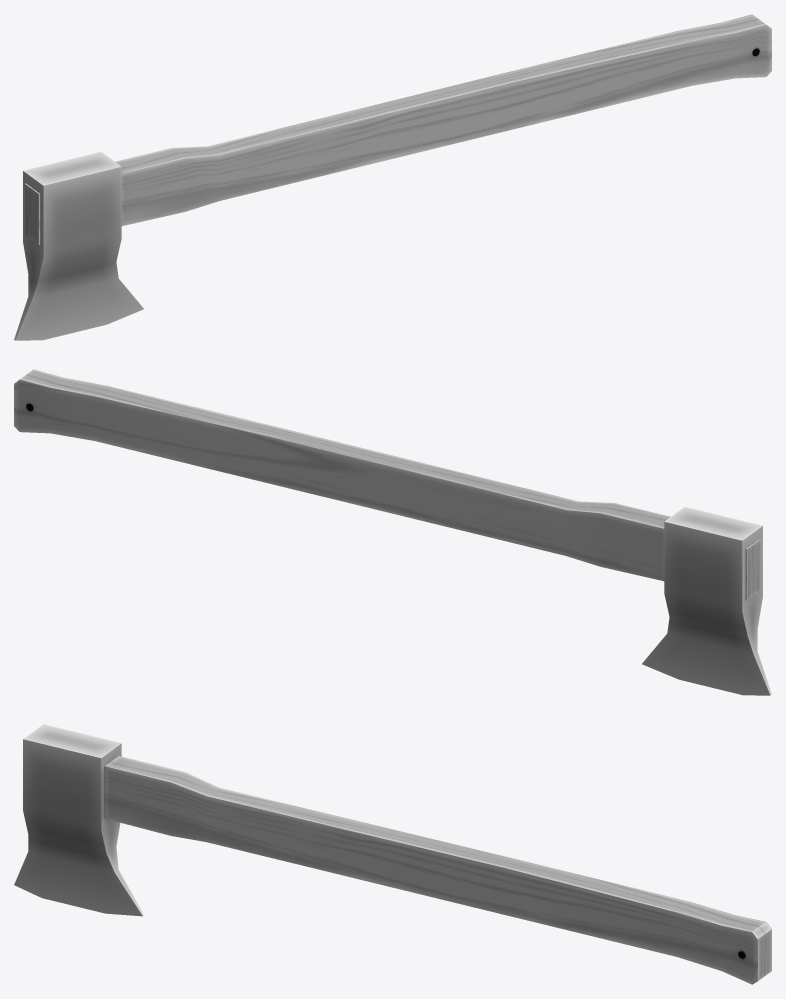
Rendered from 3D_LFR_M054_Axe01_LODGroup.fbx.
The picture shows the model from 3 angles, top to bottom: view 1: azimuth 30°, elevation 25°; view 2: azimuth 150°, elevation 25°; view 3: azimuth 330°, elevation 25°; orthographic projection.
Parts seen in each view (by area): view 1: LFR_M054_Axe01_LOD0_001; view 2: LFR_M054_Axe01_LOD0_001; view 3: LFR_M054_Axe01_LOD0_001.
Boxes of the visible parts, x1=… form: LFR_M054_Axe01_LOD0_001: x1=14, y1=14, x2=771, y2=340; LFR_M054_Axe01_LOD0_001: x1=14, y1=369, x2=771, y2=695; LFR_M054_Axe01_LOD0_001: x1=14, y1=724, x2=771, y2=984.
Bounding box in the file's own units: 0.7675 × 0.16 × 0.0363.
